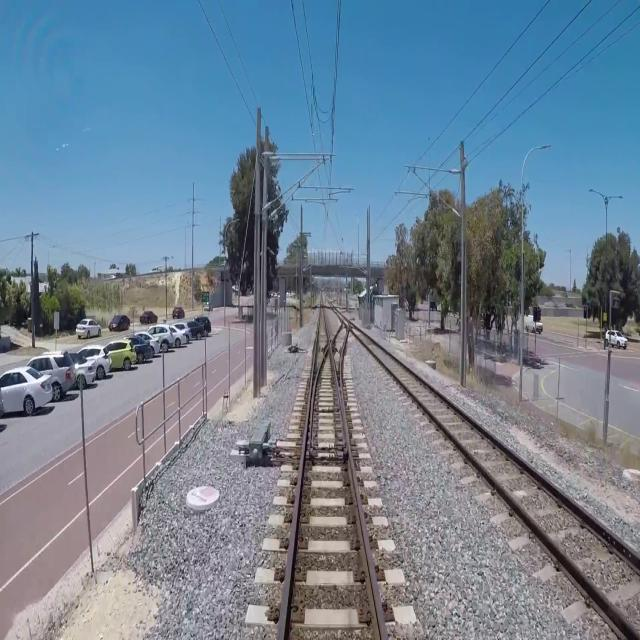rail-track: (350, 324, 640, 632), (284, 348, 378, 639), (313, 304, 328, 379), (332, 323, 347, 380)
